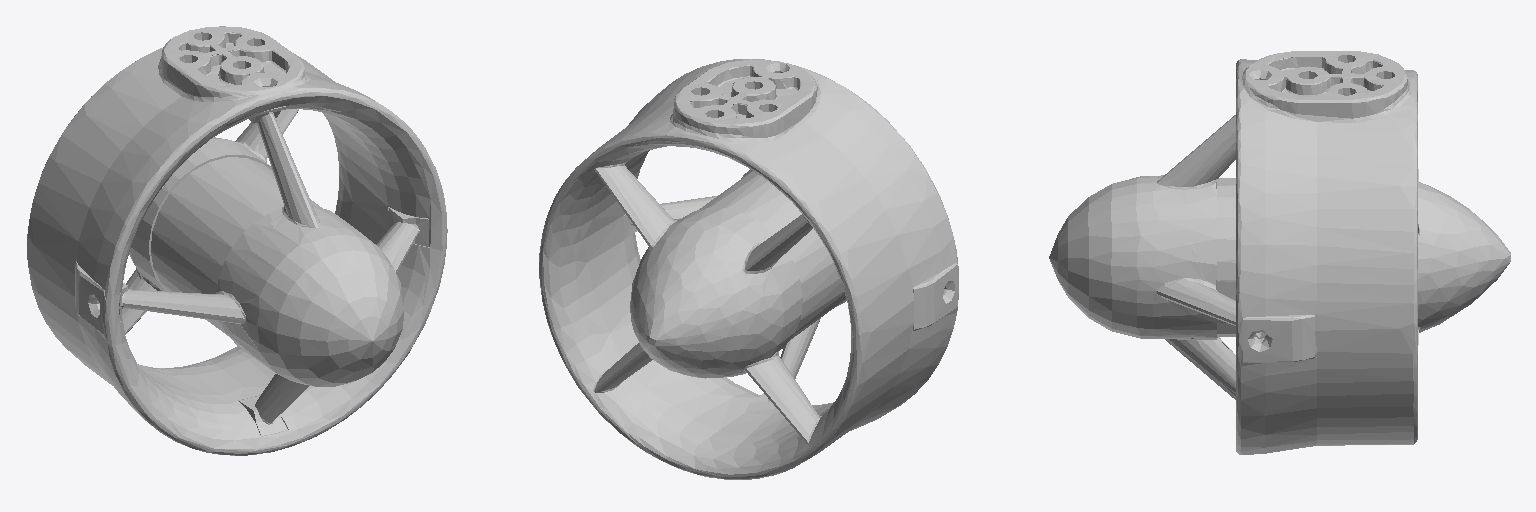
File: duct_up_left_vis.obj
The picture shows the model from 3 angles: view 1: azimuth 30°, elevation 25°; view 2: azimuth 150°, elevation 25°; view 3: azimuth 270°, elevation 25°; orthographic projection.
Visible parts, largest first — view 1: duct_up_left_vis; view 2: duct_up_left_vis; view 3: duct_up_left_vis.
Part boxes in pixels (left/top/right/bottom): duct_up_left_vis: left=27, top=26, right=447, bottom=455; duct_up_left_vis: left=539, top=59, right=958, bottom=479; duct_up_left_vis: left=1049, top=51, right=1510, bottom=454.
Bounding box in the file's own units: 0.0966 × 0.0973 × 0.1128.